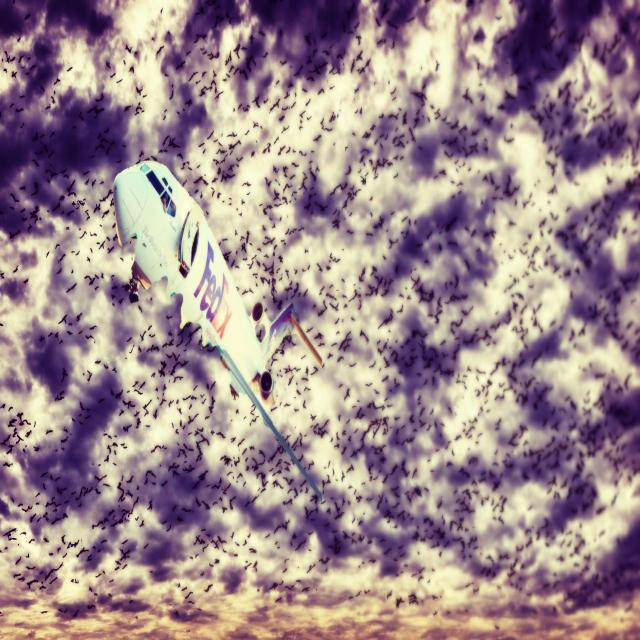airplane: (112, 156, 324, 504)
